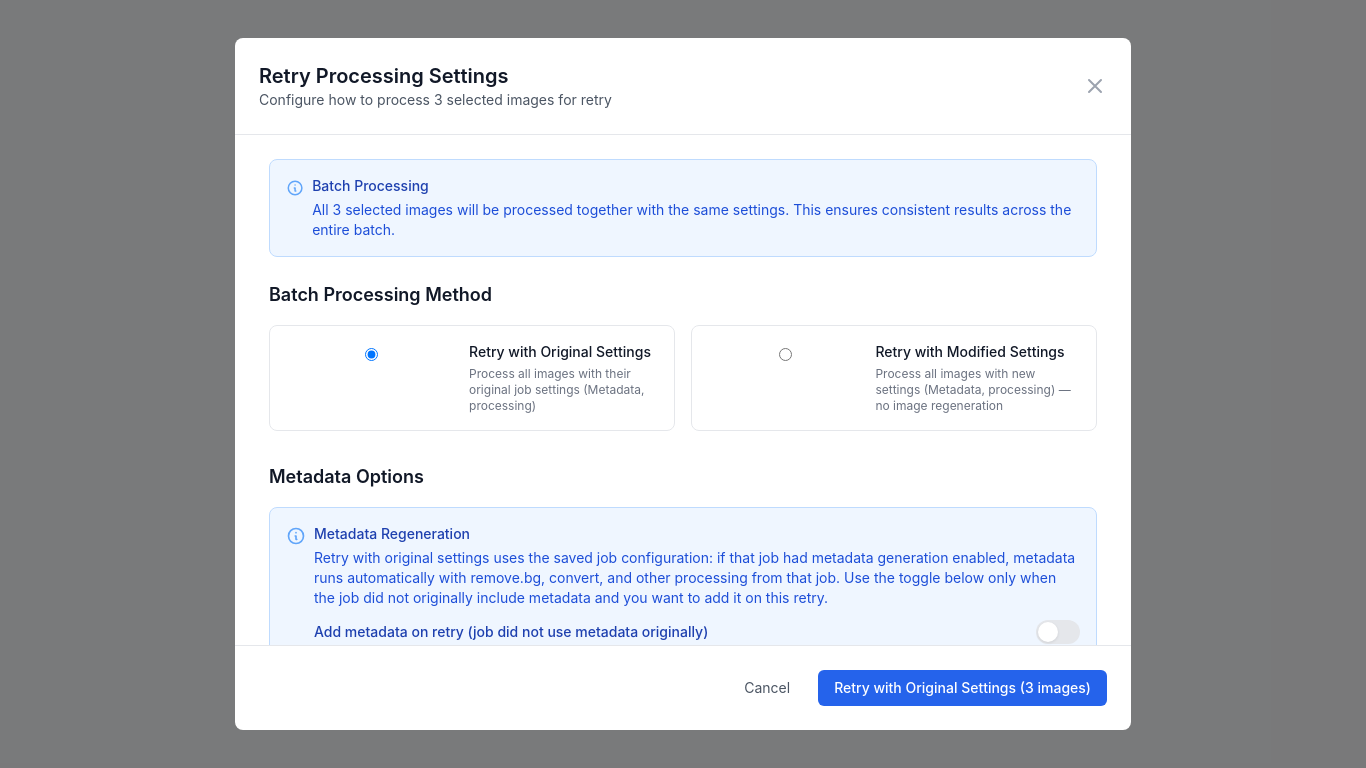
ProcessingSettingsModal › Modified Settings Section › shows modified settings section when modified radio is selected
Select modified settings
Step 1. Click the radio button with aria-label "Retry with Modified Settings" → (786, 355), box [708,348,863,361]
(page scrolled)
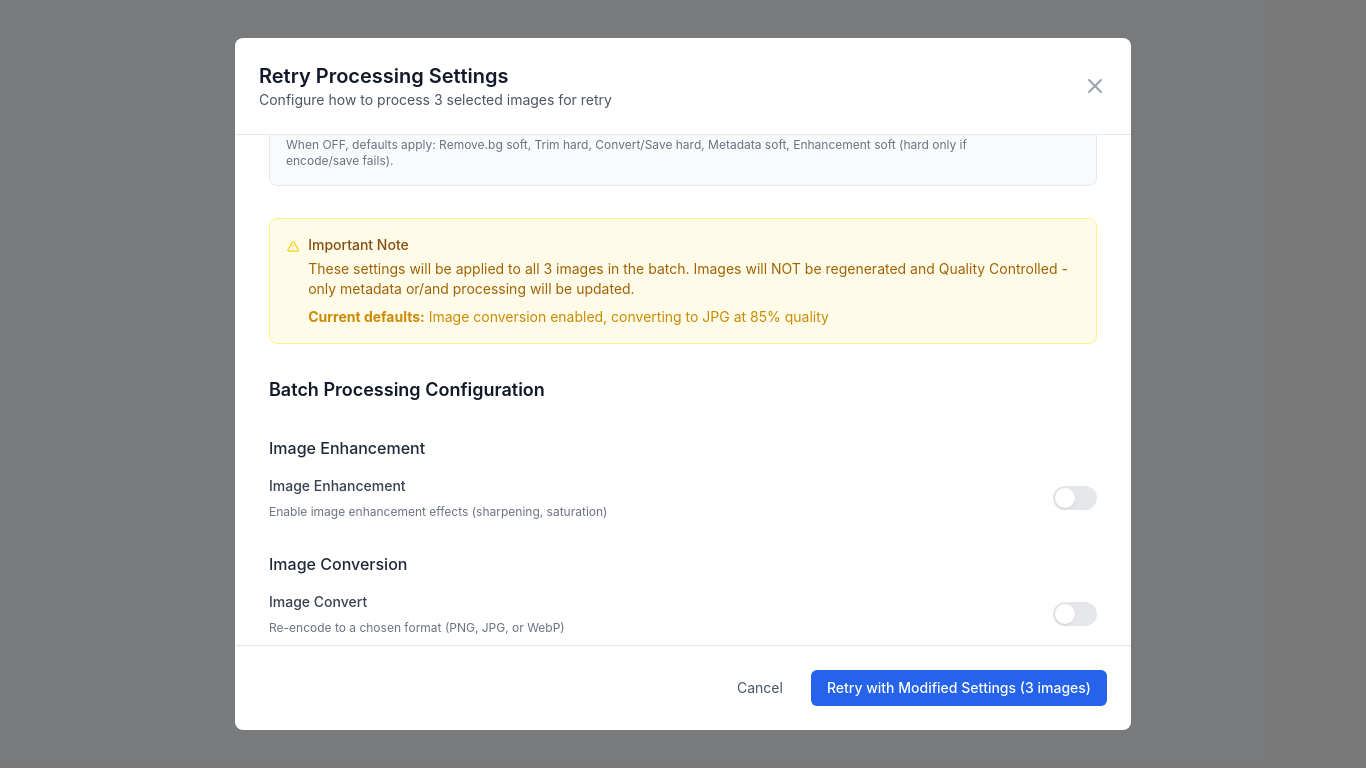
Check: the heading "Batch Processing Configuration" is shown, box [269,379,545,400]
